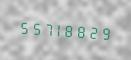eight: (77, 20, 88, 41), (65, 20, 76, 40)
five: (17, 16, 28, 37), (29, 17, 40, 38)
nine: (101, 22, 112, 43)
one: (53, 19, 64, 39)
seven: (41, 18, 52, 39)
two: (89, 21, 100, 42)
